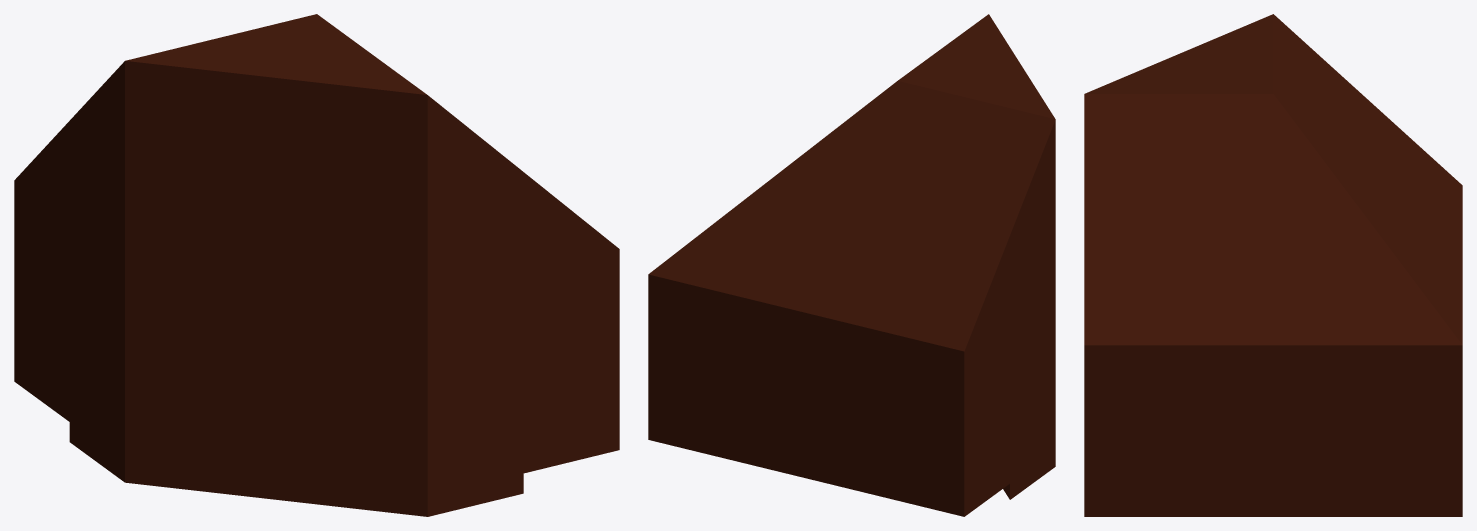
Rendered from Wall_LowFill.fbx.
The picture shows the model from 3 angles, left to right: view 1: azimuth 30°, elevation 25°; view 2: azimuth 150°, elevation 25°; view 3: azimuth 270°, elevation 25°; orthographic projection. The views are drawn at different scales.
Visible parts, largest first — view 1: Wall_LowFill; view 2: Wall_LowFill; view 3: Wall_LowFill.
Part boxes in pixels (left/top/right/bottom): Wall_LowFill: left=14, top=14, right=619, bottom=516; Wall_LowFill: left=648, top=14, right=1055, bottom=516; Wall_LowFill: left=1084, top=14, right=1462, bottom=516.
Size of the model in its own units: 0.2 by 0.2 by 0.21.
